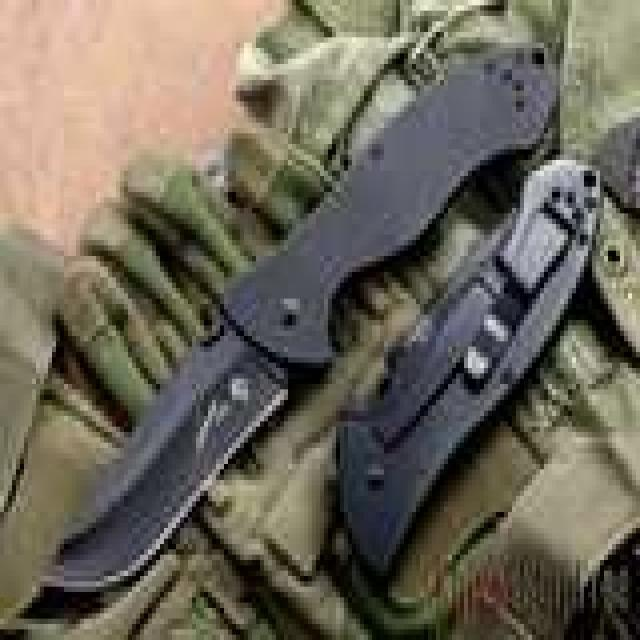knife: (37, 40, 561, 590)
